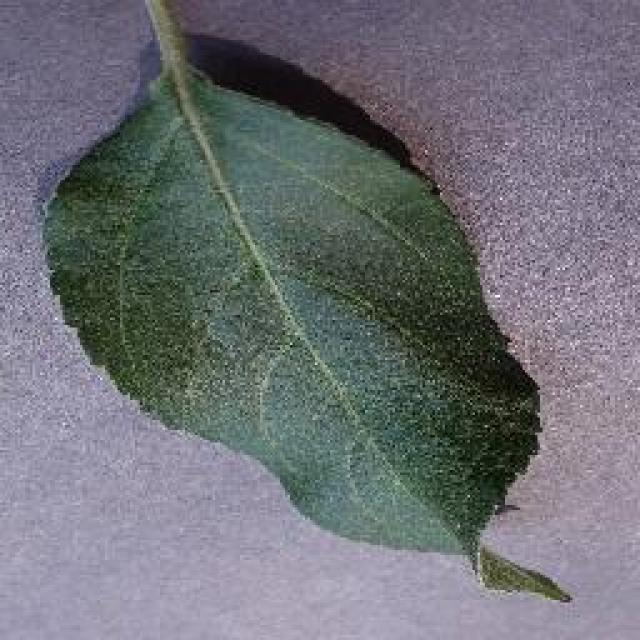apple healthy: (38, 20, 572, 600)
